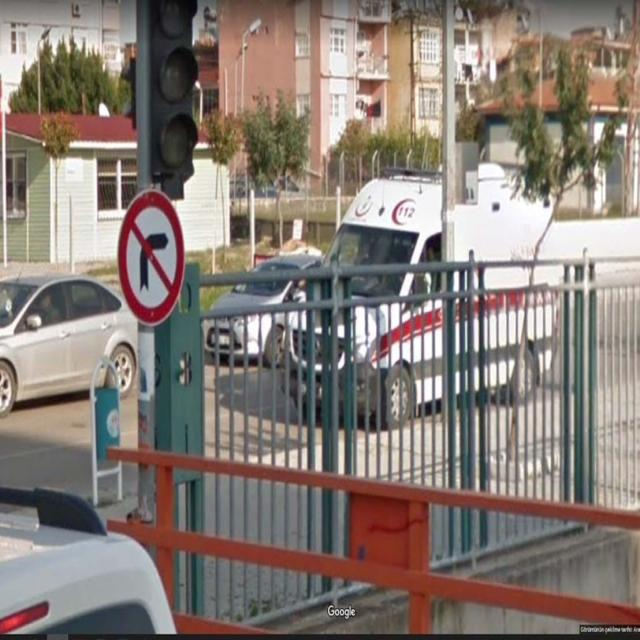sagadonulmez: (116, 188, 186, 323)
